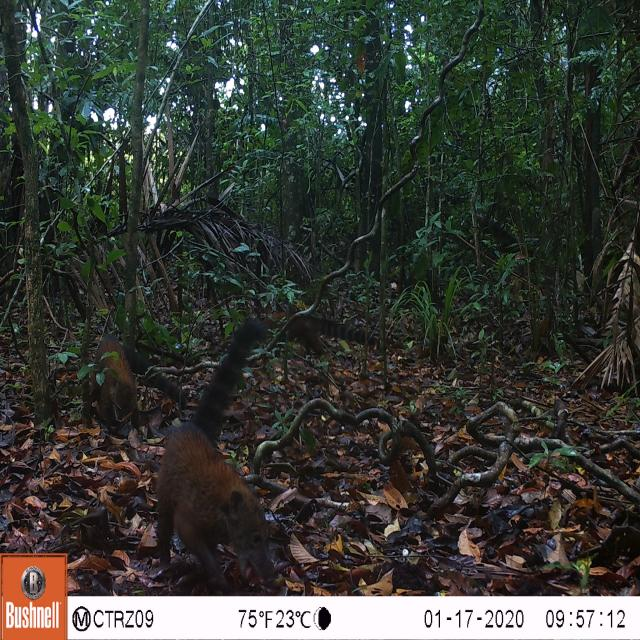South American Coati: (150, 304, 284, 587), (79, 322, 188, 432), (274, 300, 385, 361)
